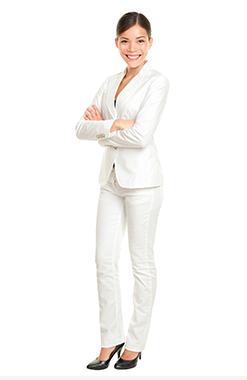F_W_suit jacket: (74, 77, 178, 177)
